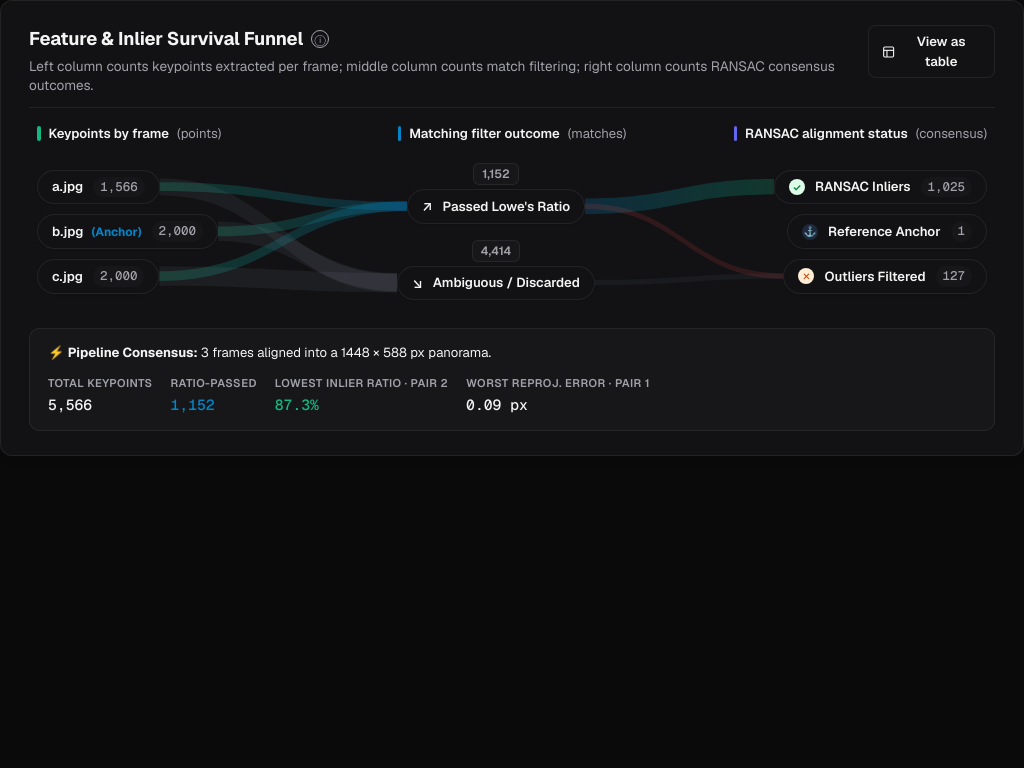
it: FeatureSurvivalFunnel › opens and closes the table modal when View as table is clicked
The image size is (1024, 768).
Click the button "View as table" at (932, 52), box [868,25,995,78]
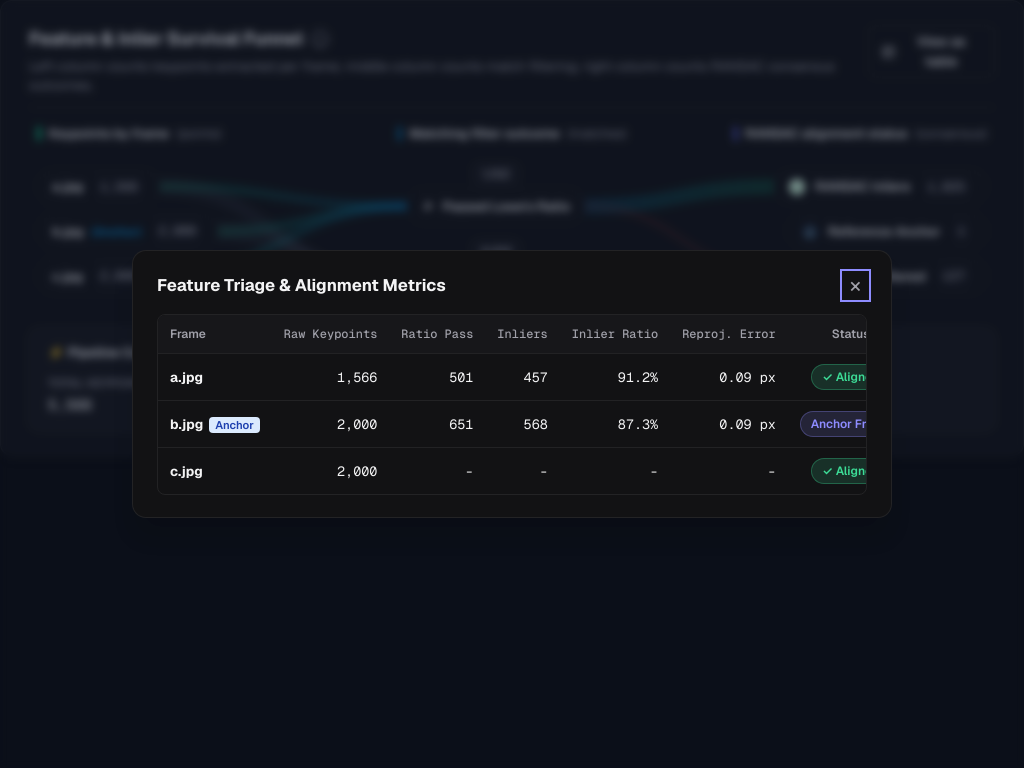
Now the dialog is shown
Now the heading "Feature Triage & Alignment Metrics" is shown, box [157,273,446,298]
Click the button named "Close modal" at (855, 286), box [844,273,867,298]
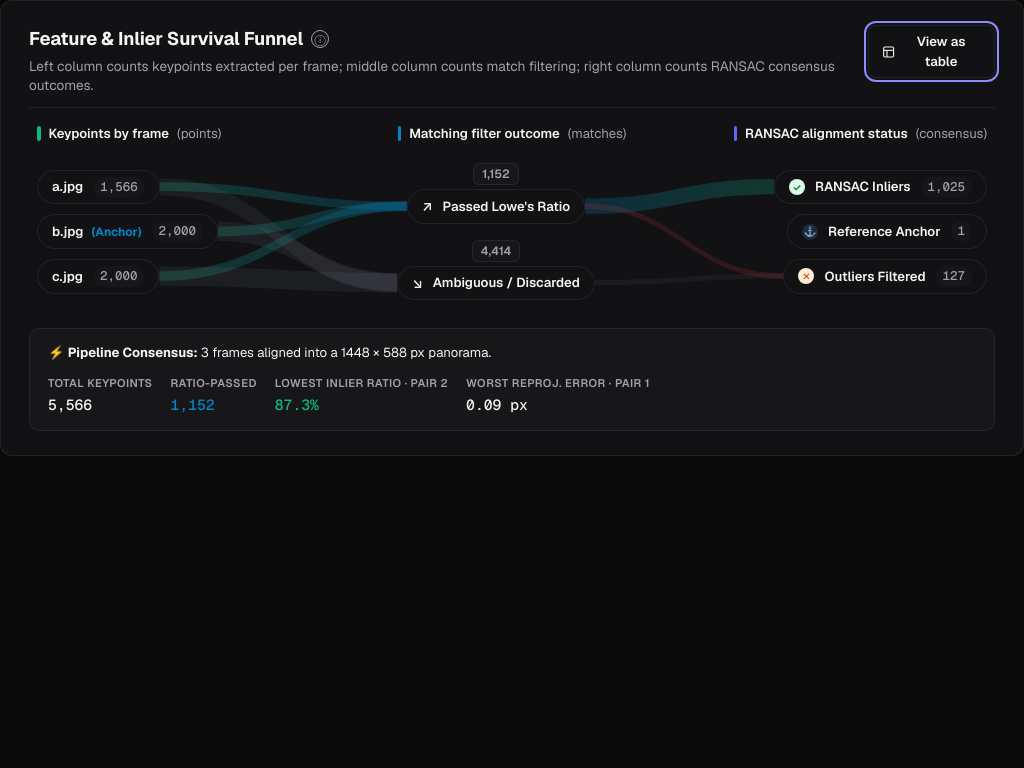
Now the dialog is gone
